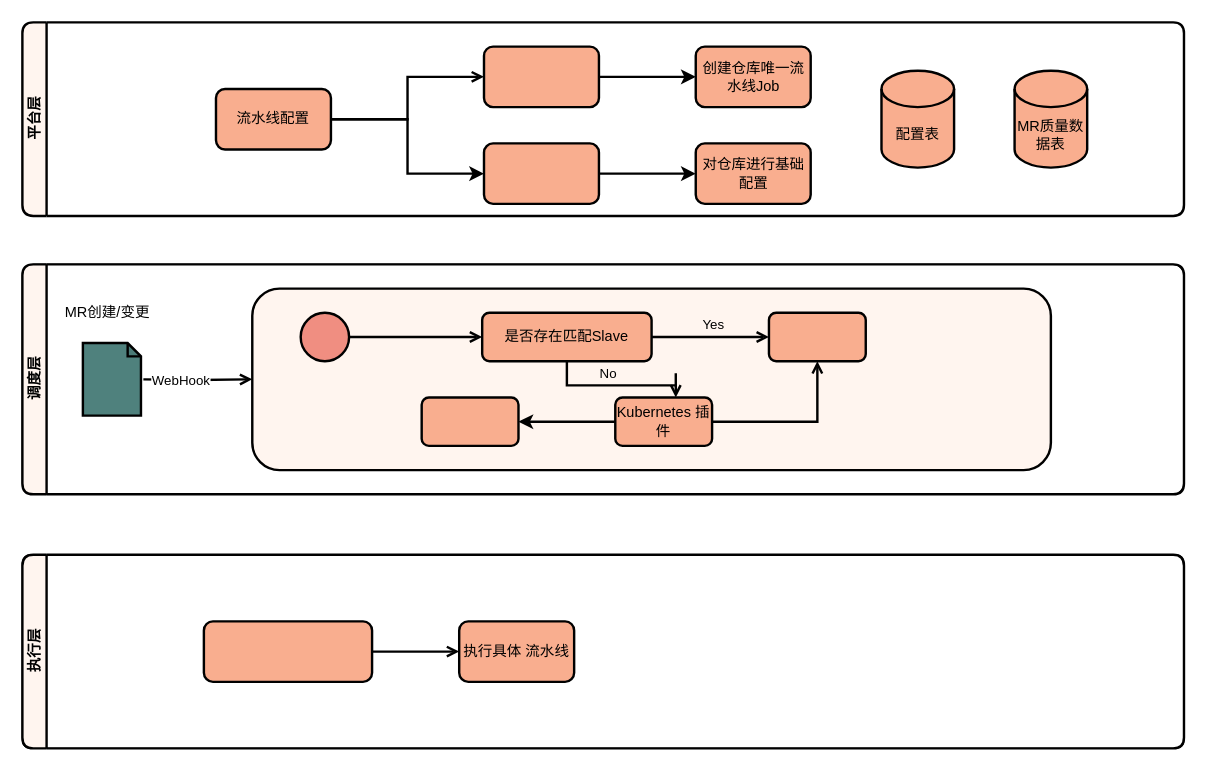
This 1205x770 diagram has some shape labels left out. The centre of each missing label's shape, as x and y in pixels:
"GitLab API" belongs at point 541,173.
"Jenkins API" belongs at point 541,76.
"Jenkins Pipeline Job" belongs at point 324,336.
"分配调度Slave" belongs at point 816,336.
"创建Slave并调度" belongs at point 469,421.
"拉取Groovy Library 库" belongs at point 287,651.
